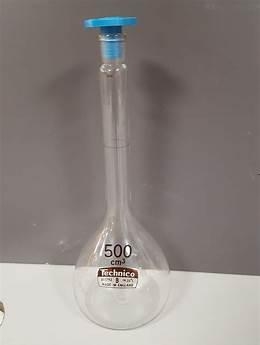Volumetric flask: (64, 9, 178, 330)
